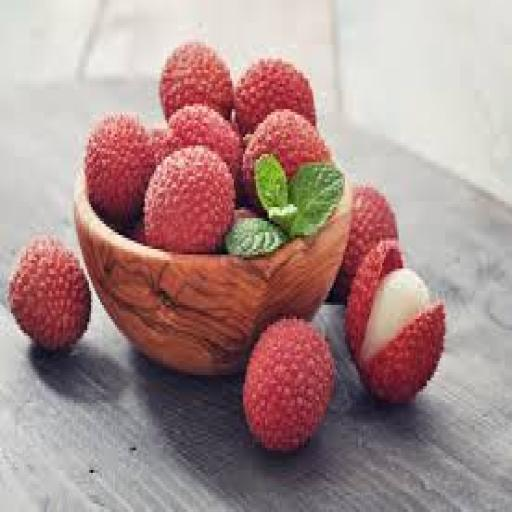lychee: (346, 241, 445, 402), (244, 319, 333, 450), (145, 146, 235, 254), (8, 238, 90, 349), (242, 110, 332, 207), (331, 185, 398, 302), (86, 115, 153, 226), (154, 104, 241, 181), (234, 59, 315, 134), (160, 42, 233, 120), (149, 126, 172, 165), (127, 219, 146, 246), (234, 208, 257, 223)
